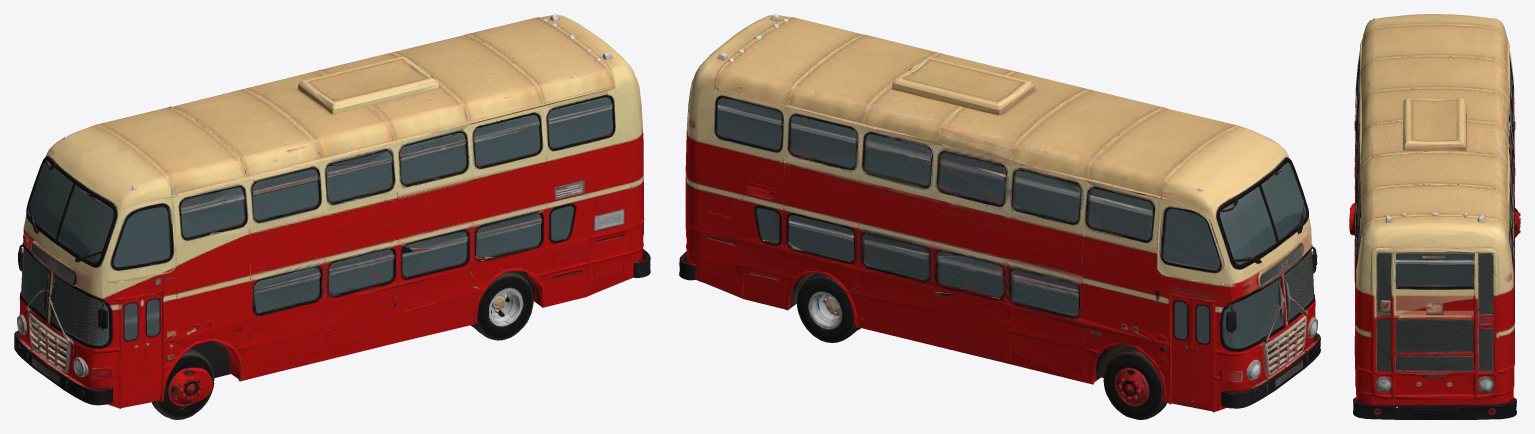
Rendered from bus.glb.
The picture shows the model from 3 angles, left to right: view 1: azimuth 30°, elevation 25°; view 2: azimuth 150°, elevation 25°; view 3: azimuth 270°, elevation 25°; orthographic projection. The views are drawn at different scales.
Visible parts, largest first — view 1: output_unwrapped; view 2: output_unwrapped; view 3: output_unwrapped.
Boxes of the visible parts, left/top/right/bottom form: output_unwrapped: left=14, top=14, right=650, bottom=419; output_unwrapped: left=679, top=14, right=1320, bottom=419; output_unwrapped: left=1349, top=14, right=1520, bottom=419.
Bounding box in the file's own units: 1.9 × 0.8092 × 0.5604.
Materials: 1 (1 with a texture image).
